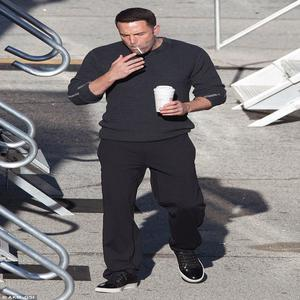cigarette: (135, 45, 143, 58)
